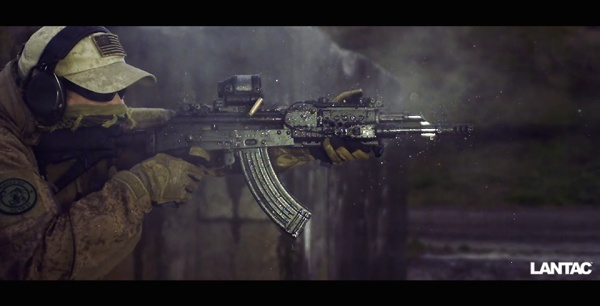ak47: (50, 79, 476, 227)
